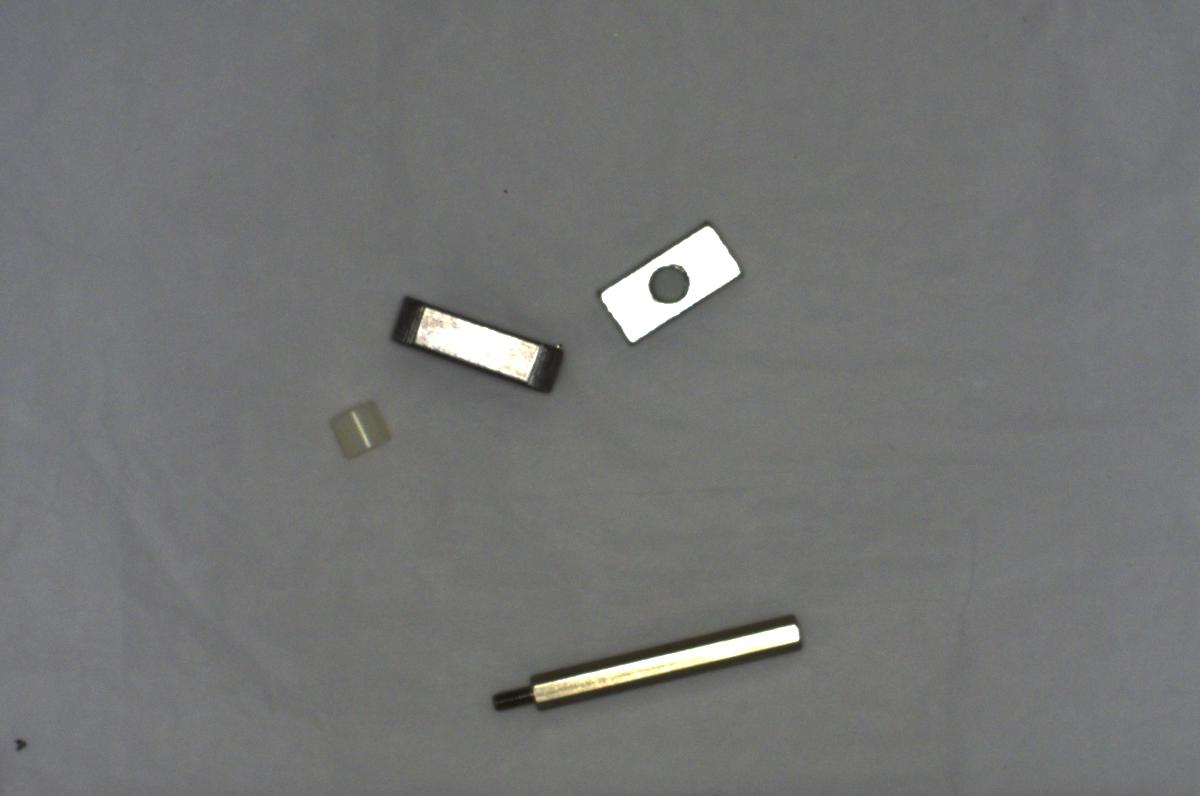Hexagonal steel column: (487, 615, 807, 721)
Keybar: (387, 286, 571, 399)
Plastic cushion pillar: (322, 398, 391, 463)
Rectangular nut: (592, 216, 750, 350)
